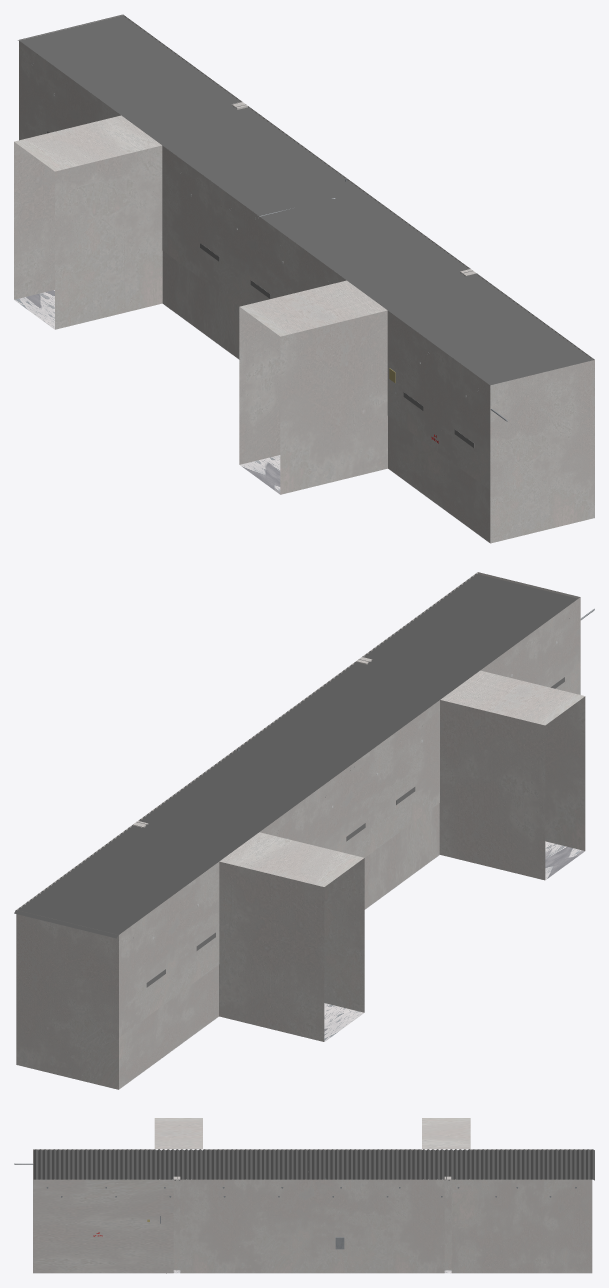
The model's file is Corridoor92.fbx.
The picture shows the model from 3 angles, top to bottom: view 1: azimuth 30°, elevation 25°; view 2: azimuth 150°, elevation 25°; view 3: azimuth 270°, elevation 25°; orthographic projection. The views are drawn at different scales.
Visible parts, largest first — view 1: Cube, Plane; view 2: Cube, Plane; view 3: Cube, Plane.
Part boxes in pixels (bbox=[...]): Cube: bbox=[14, 15, 594, 543]; Plane: bbox=[18, 14, 593, 385]; Cube: bbox=[16, 572, 585, 1089]; Plane: bbox=[14, 573, 577, 938]; Cube: bbox=[33, 1118, 592, 1273]; Plane: bbox=[33, 1149, 594, 1180].
Bounding box in the file's own units: 406 × 291 × 1618.
